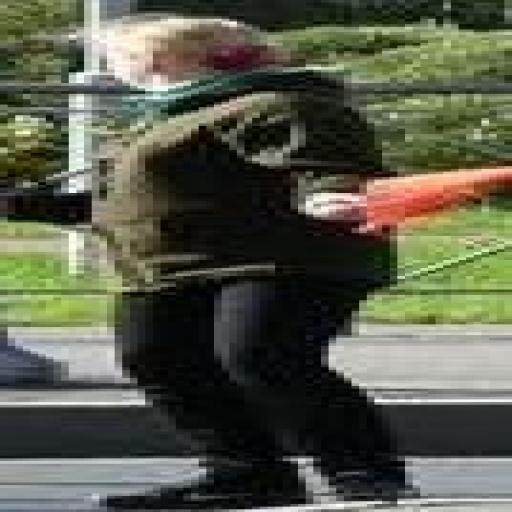person: (0, 14, 412, 509)
